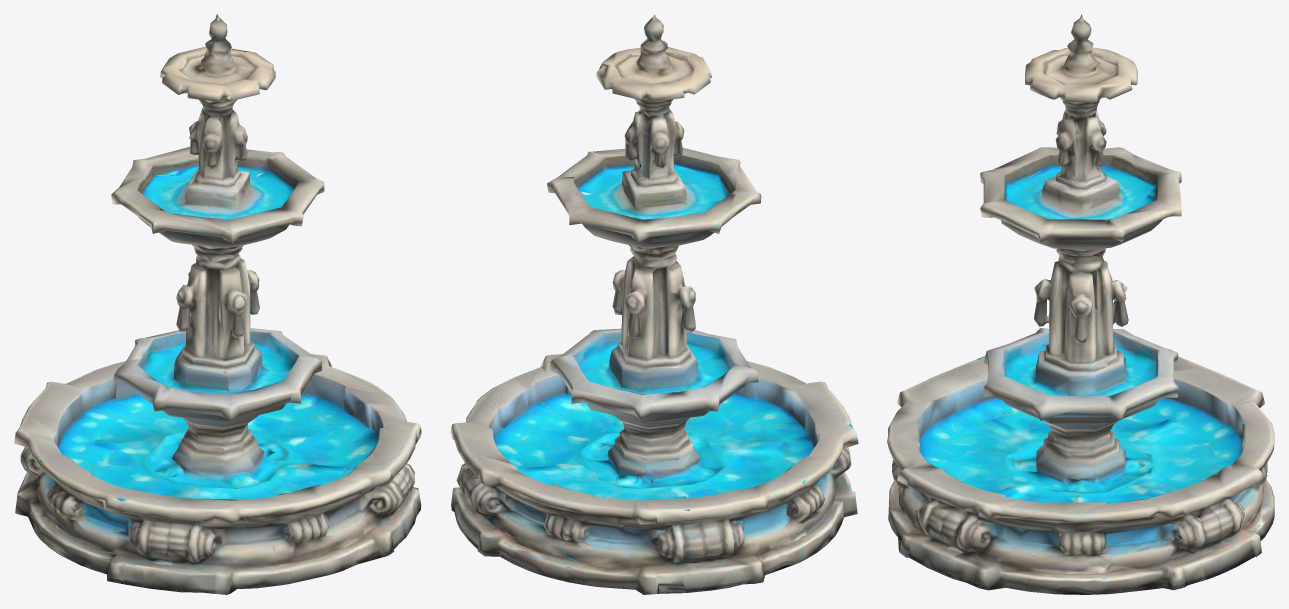
File: base-fountain.glb
3 renders of one model, left to right at view 1: azimuth 30°, elevation 25°; view 2: azimuth 150°, elevation 25°; view 3: azimuth 270°, elevation 25°, orthographic.
Bounding box in the file's own units: 1.34 × 1.91 × 1.34.
Materials: 1 (1 with a texture image).
